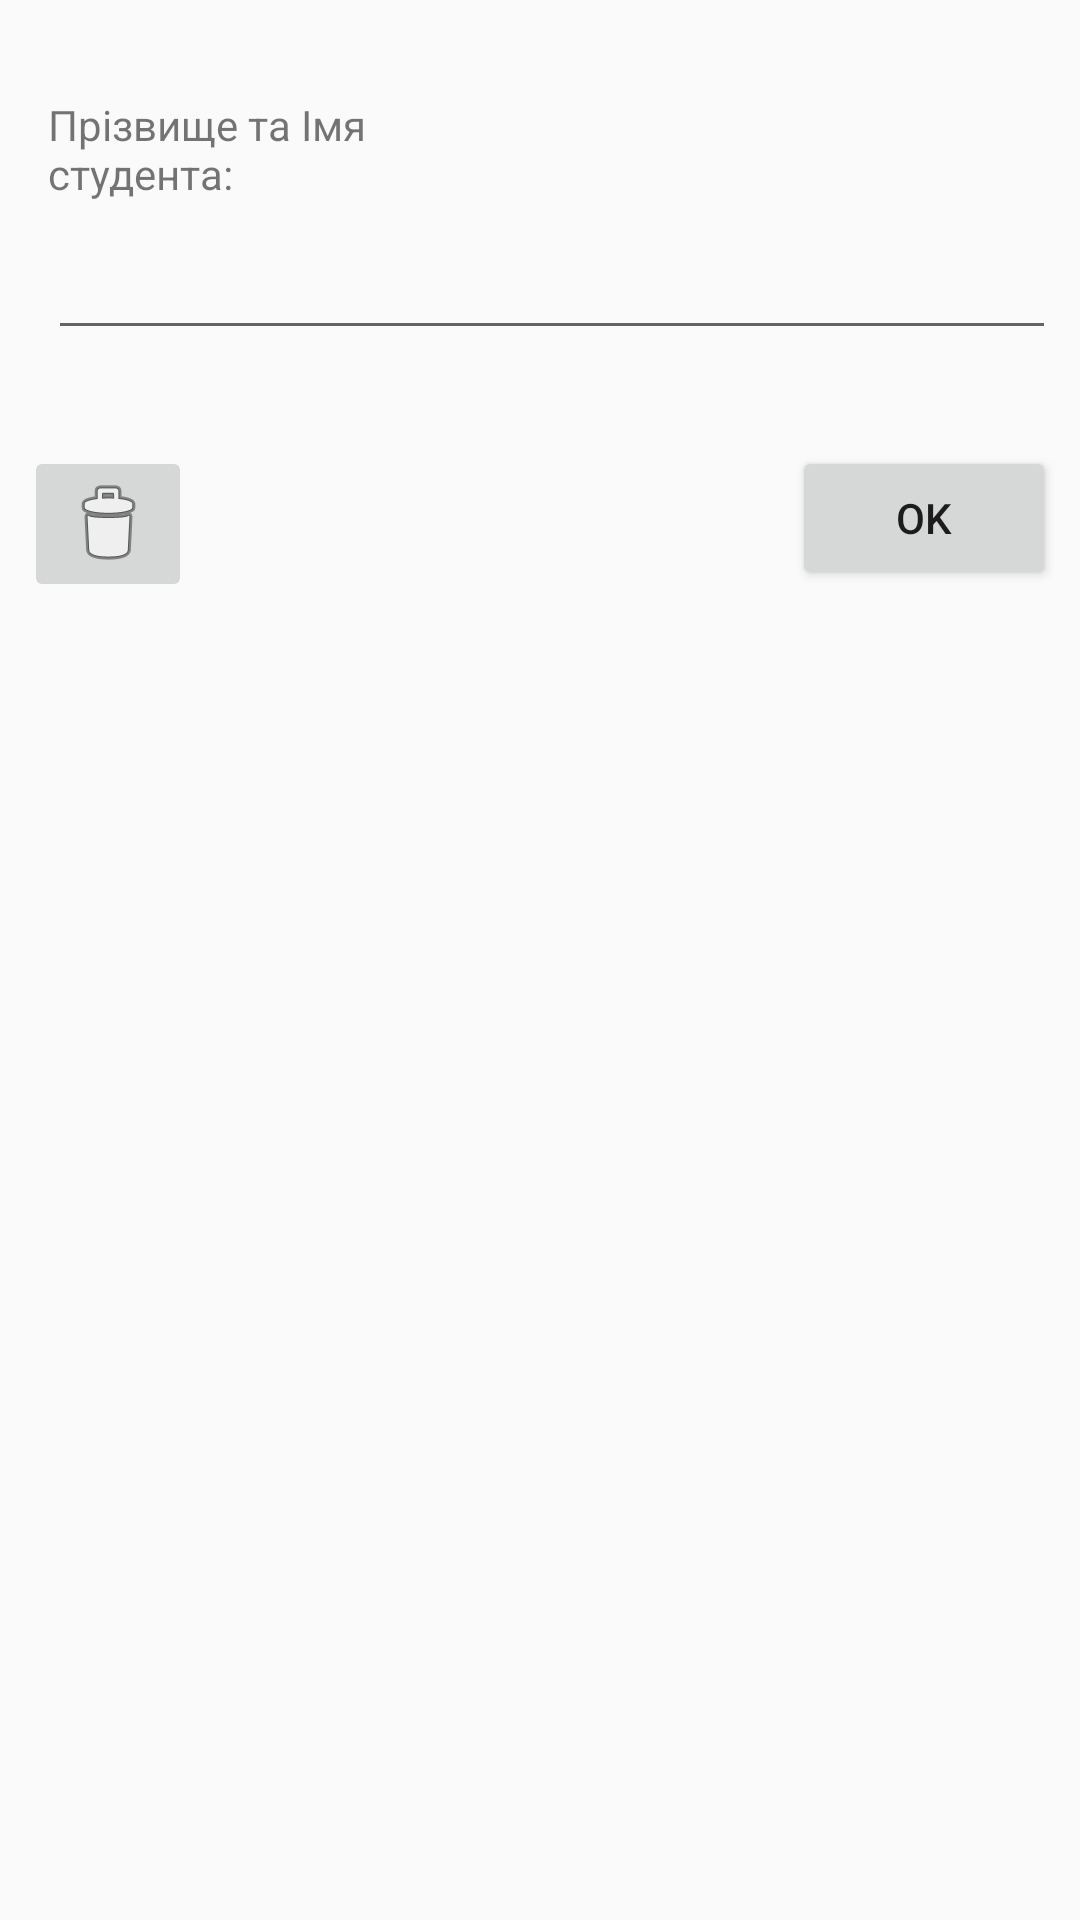

Where to tap for icons on this 1080x1920 app screen, as point (x, y):
delete: point (108, 524)
